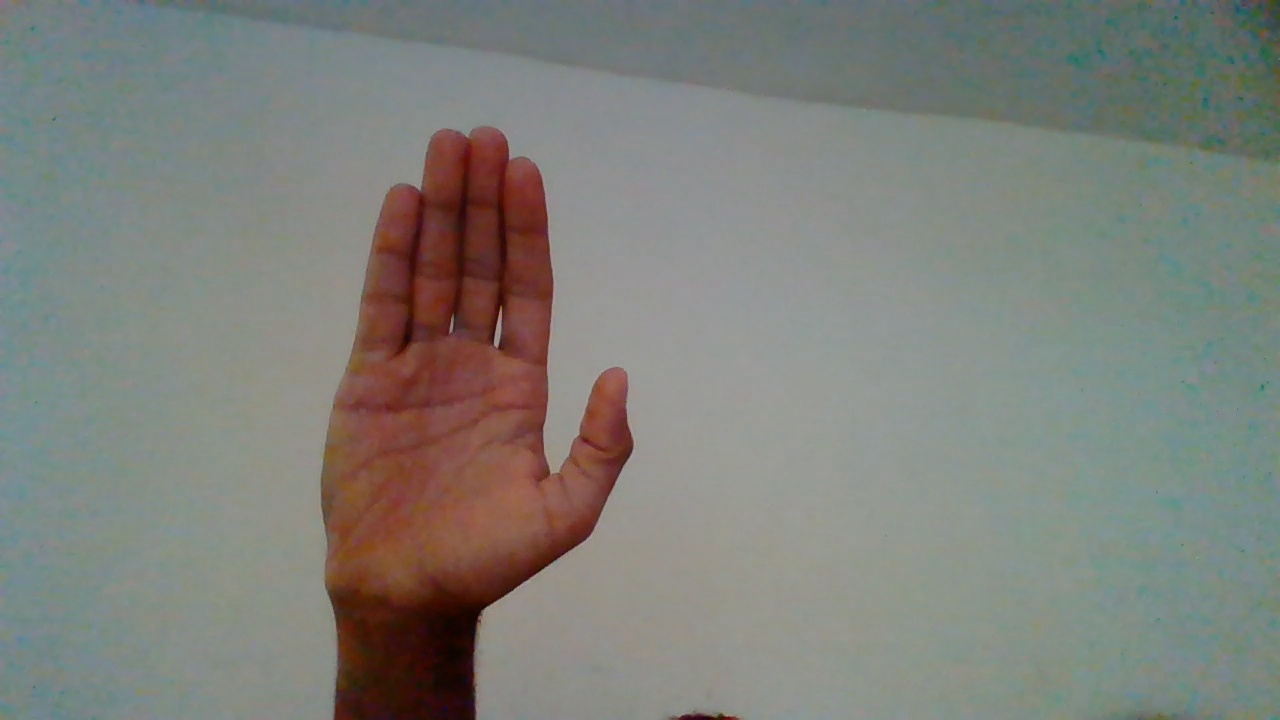ha: (308, 121, 638, 711)
